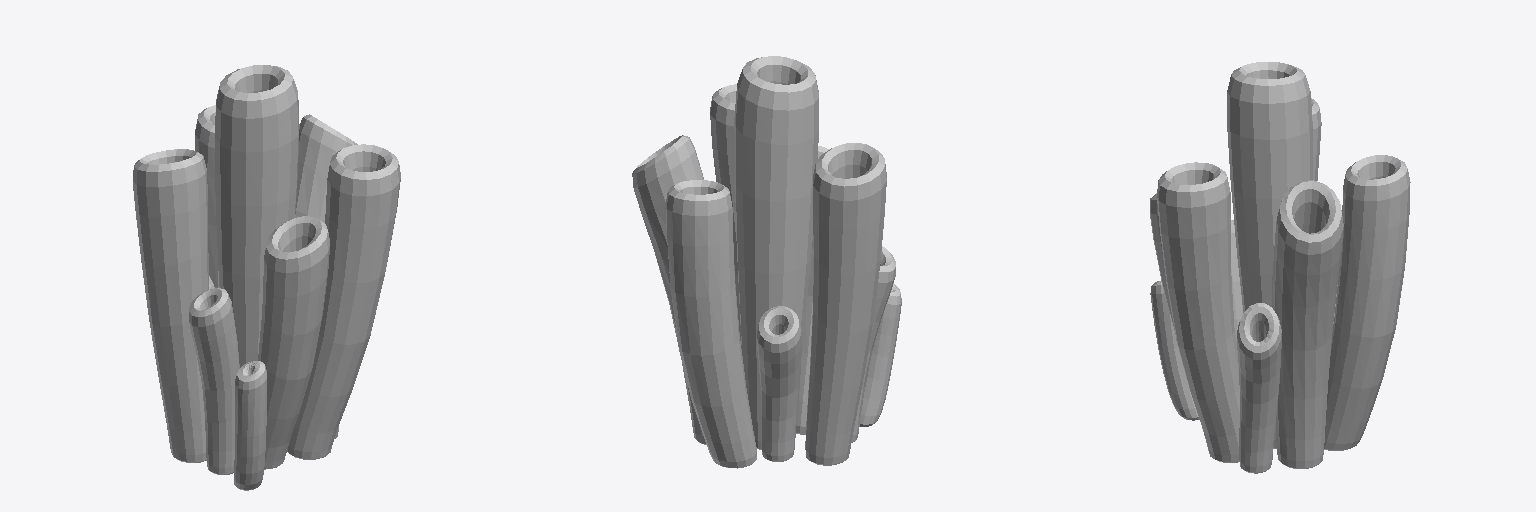
The model's file is Coral_C_03_LOD0.obj.
3 renders of one model, left to right at view 1: azimuth 30°, elevation 25°; view 2: azimuth 150°, elevation 25°; view 3: azimuth 270°, elevation 25°, orthographic.
Visible parts, largest first — view 1: Coral_C_03_LOD0_Cylinder.295; view 2: Coral_C_03_LOD0_Cylinder.295; view 3: Coral_C_03_LOD0_Cylinder.295.
Boxes of the visible parts, x1,y1,x2,y2 form: Coral_C_03_LOD0_Cylinder.295: [133, 65, 400, 490]; Coral_C_03_LOD0_Cylinder.295: [632, 56, 901, 468]; Coral_C_03_LOD0_Cylinder.295: [1150, 62, 1410, 473].
Bounding box in the file's own units: 4.28 × 6.53 × 4.15.